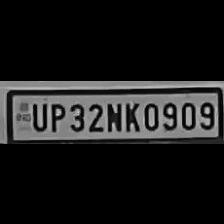0: (140, 98, 158, 130), (178, 97, 196, 128)
2: (84, 98, 104, 132)
3: (65, 98, 84, 132)
9: (159, 98, 177, 130), (197, 97, 215, 128)
K: (122, 98, 140, 132)
N: (104, 98, 122, 132)
P: (48, 98, 64, 132)
U: (28, 99, 46, 131)
